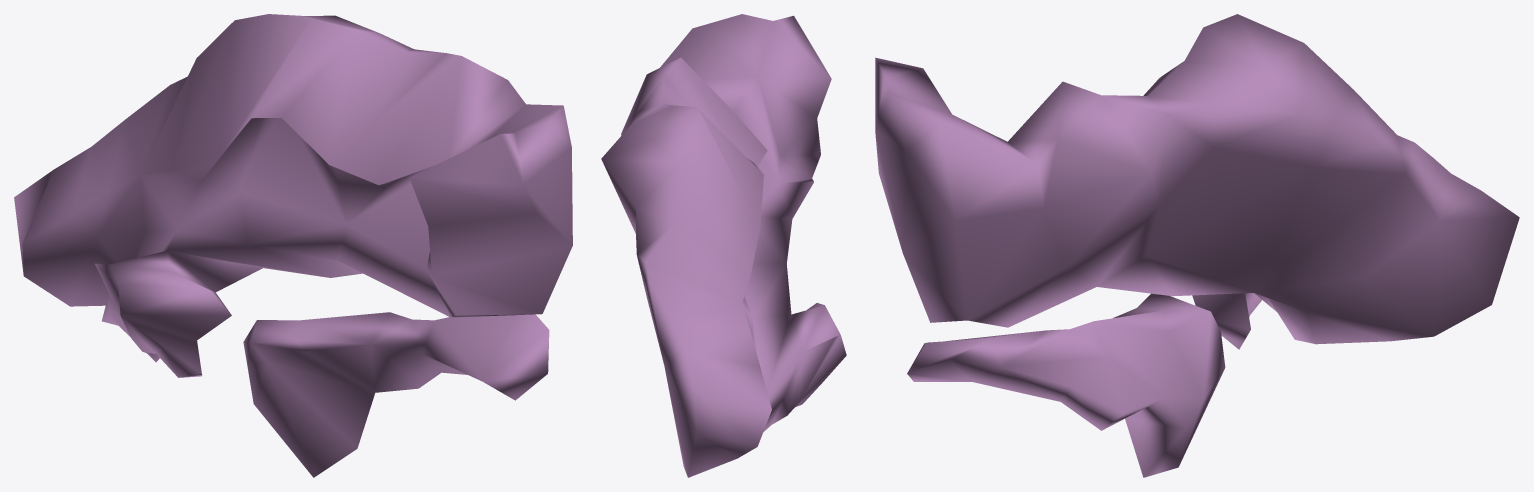
The picture shows the model from 3 angles, left to right: view 1: azimuth 30°, elevation 25°; view 2: azimuth 150°, elevation 25°; view 3: azimuth 270°, elevation 25°; orthographic projection. The views are drawn at different scales.
Parts seen in each view (by area): view 1: 右侧扣带回后腹侧部; view 2: 右侧扣带回后腹侧部; view 3: 右侧扣带回后腹侧部.
Part boxes in pixels (box(x1,y1,x2,y2)): 右侧扣带回后腹侧部: box(14, 14, 572, 477); 右侧扣带回后腹侧部: box(601, 14, 846, 477); 右侧扣带回后腹侧部: box(875, 14, 1519, 477).
Size of the model in its own units: 0.024 by 0.03 by 0.0381.
